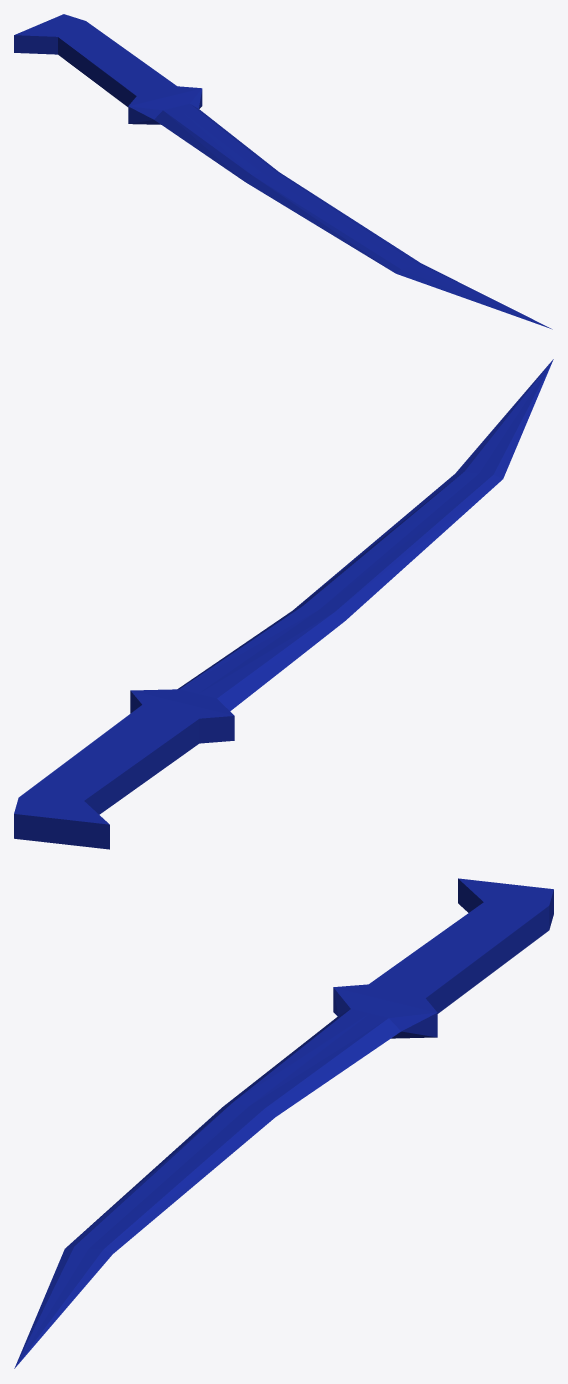
The model's file is CurvedOneHandedSword.obj.
The picture shows the model from 3 angles, top to bottom: view 1: azimuth 30°, elevation 25°; view 2: azimuth 150°, elevation 25°; view 3: azimuth 330°, elevation 25°; orthographic projection. The views are drawn at different scales.
Visible parts, largest first — view 1: Cube_Cube.002; view 2: Cube_Cube.002; view 3: Cube_Cube.002.
Part boxes in pixels (bbox=[...]): Cube_Cube.002: bbox=[14, 14, 552, 329]; Cube_Cube.002: bbox=[14, 359, 553, 849]; Cube_Cube.002: bbox=[14, 878, 553, 1368].
Bounding box in the file's own units: 0.1357 × 0.0205 × 0.9168.
